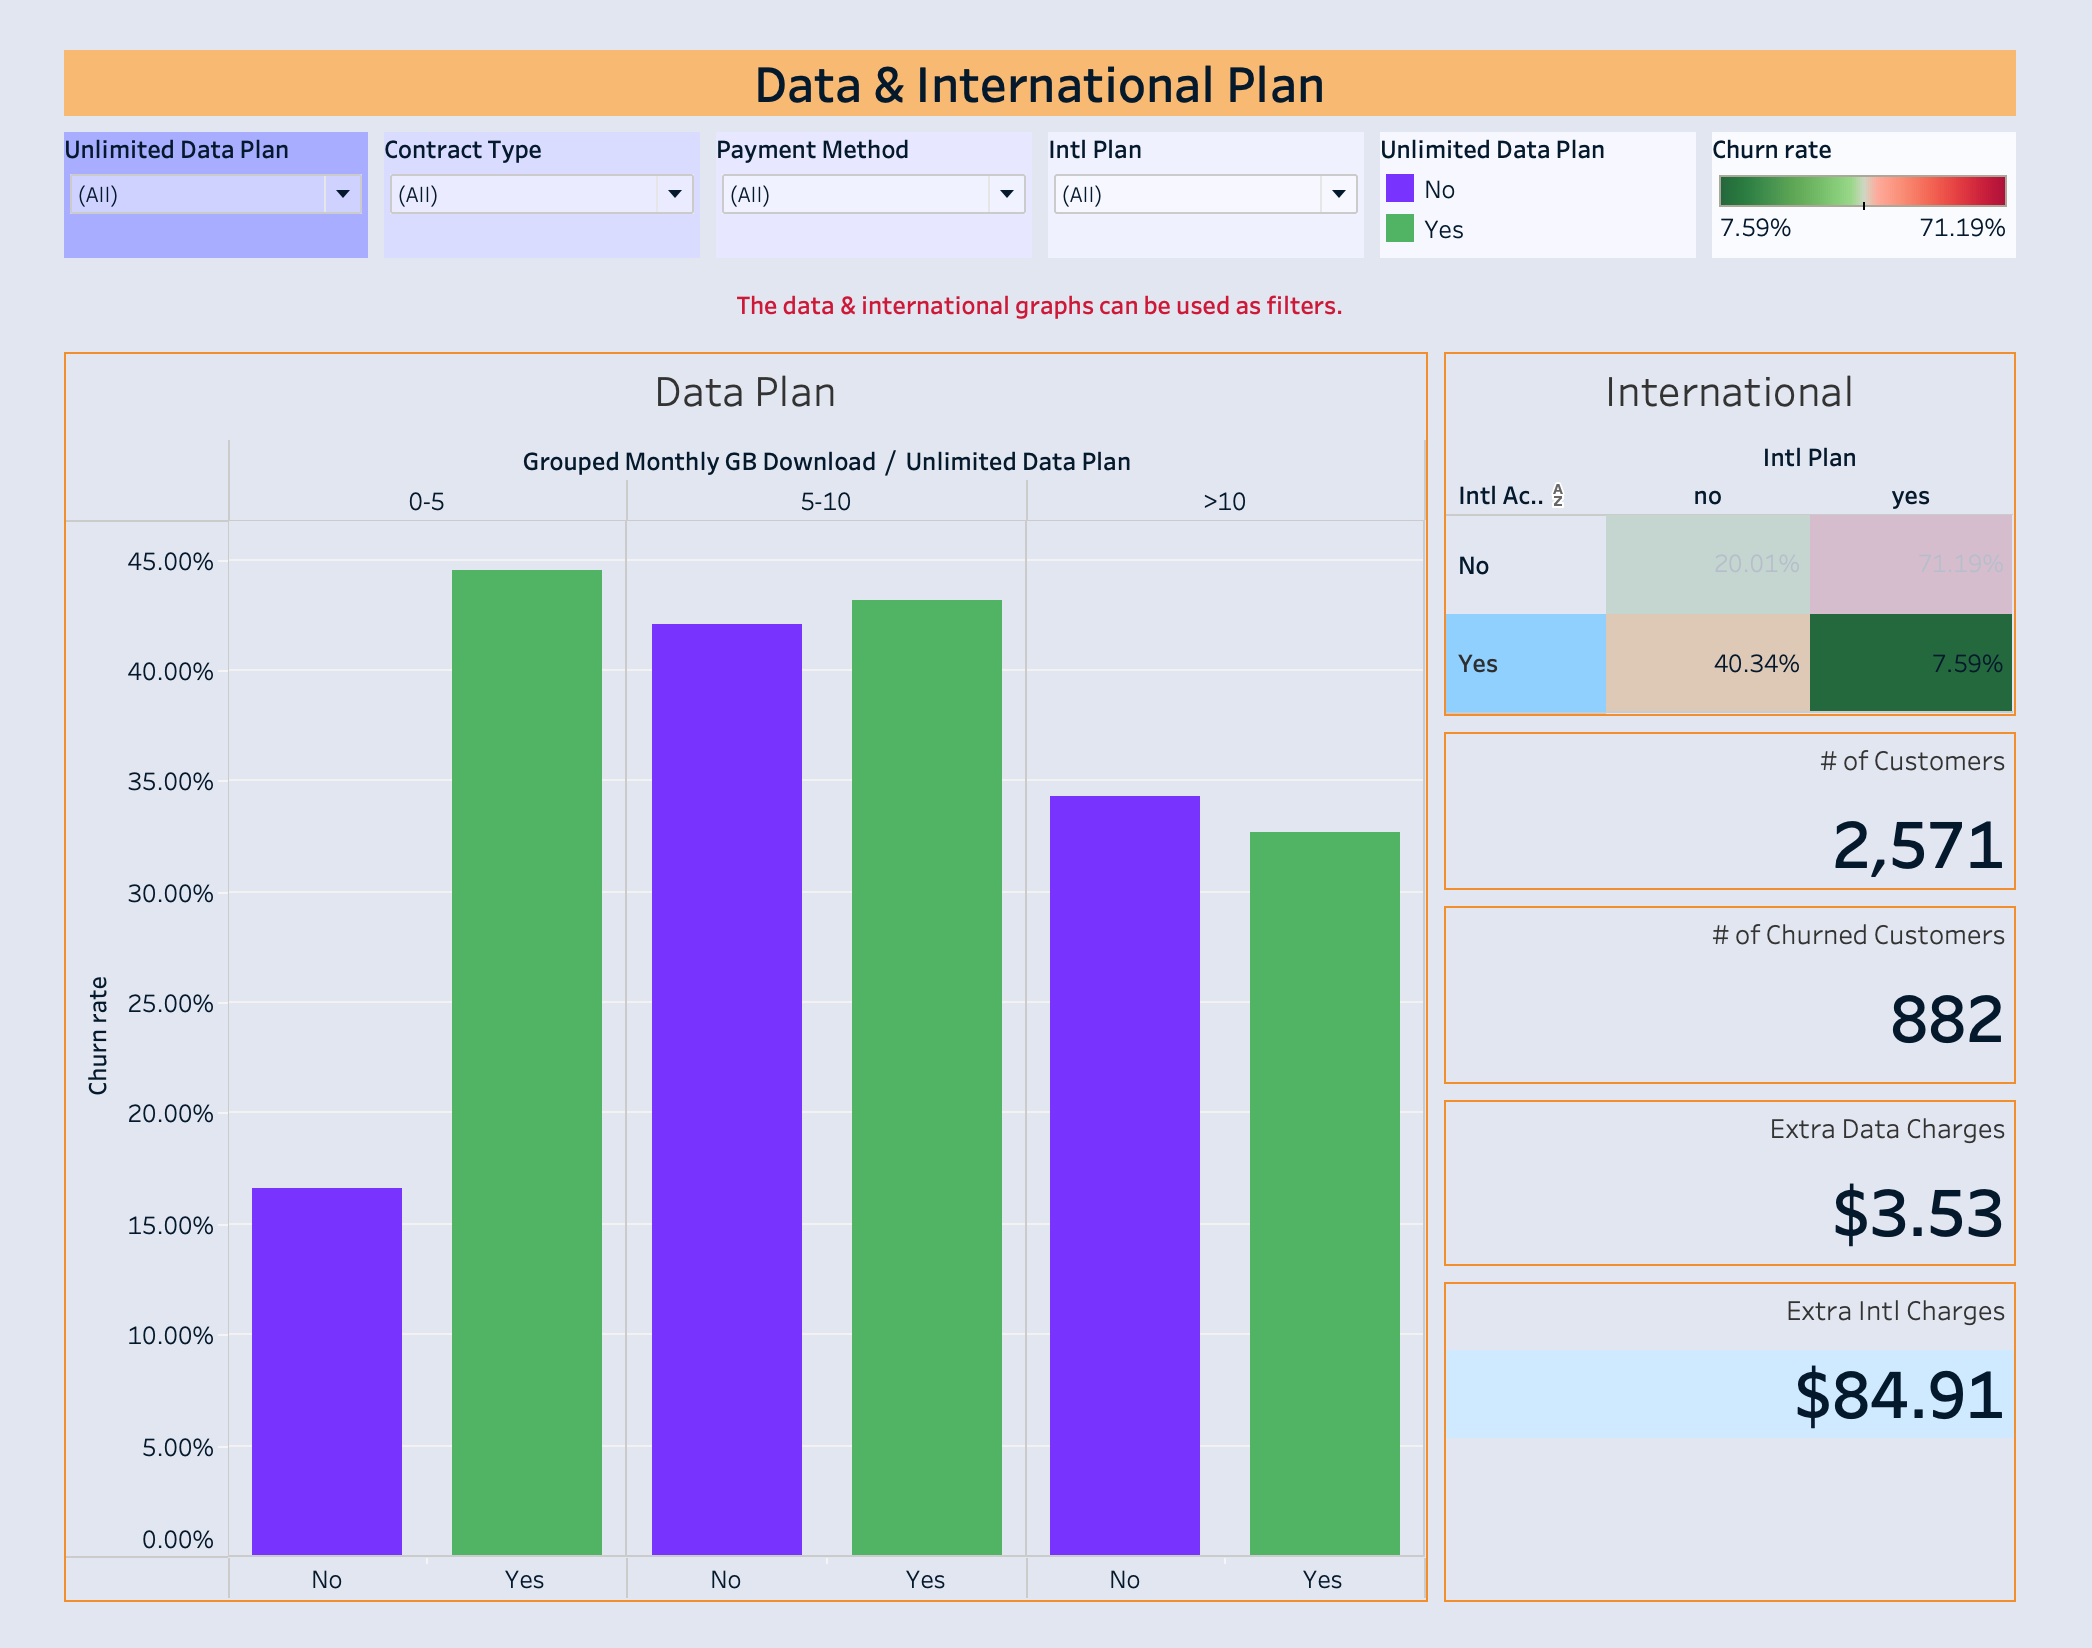

Layout of this report page (visuals, bound fields, positions):
{"tool":"tableau","page":{"name":"Data & International Plan ","canvas":[1000,800],"ordinal":1},"visuals":[{"type":"title","box":[8,8,984,41]},{"type":"filter","title":"Data Plan","param":"[federated.1559pdh1893exj185r2jq1n05w4m].[none:Unlimited Data Plan:nk]","box":[8,49,160,71.1]},{"type":"filter","title":"Data Plan","param":"[federated.1559pdh1893exj185r2jq1n05w4m].[none:Contract Type:nk]","box":[168,49,166,71.1]},{"type":"filter","title":"Data Plan","param":"[federated.1559pdh1893exj185r2jq1n05w4m].[none:Payment Method:nk]","box":[334,49,166,71.1]},{"type":"filter","title":"Data Plan","param":"[federated.1559pdh1893exj185r2jq1n05w4m].[none:Intl Plan:nk]","box":[500,49,166,71.1]},{"type":"legend","title":"Data Plan","param":"[federated.1559pdh1893exj185r2jq1n05w4m].[none:Unlimited Data Plan:nk]","box":[666,49,166,71.1]},{"type":"legend","title":"International","param":"[federated.1559pdh1893exj185r2jq1n05w4m].[usr:Calculation_161848126833676291:qk]","box":[832,49,160,71.1]},{"type":"text","box":[8,120.1,984,38.9]},{"type":"worksheet","title":"Data Plan","mark":"Automatic","rows":["Calculation_161848126833676291"],"cols":["Calculation_681450935635226625","Unlimited Data Plan"],"box":[8,159,690,633]},{"type":"worksheet","title":"International","mark":"Square","rows":["Intl Active"],"cols":["Intl Plan"],"box":[698,159,294,190.2]},{"type":"worksheet","title":"# of Customers","mark":"Automatic","box":[698,349.2,294,86.8]},{"type":"worksheet","title":"# of Churned Customers","mark":"Automatic","box":[698,436,294,97]},{"type":"worksheet","title":"Extra Data Charges","mark":"Automatic","box":[698,533,294,91]},{"type":"worksheet","title":"Extra Intl Charges","mark":"Automatic","box":[698,624,294,168]}]}

Visuals, with their boxes in screenshot pixels (x1, y1, x2, y2), scaled from the page's 1000x800 canvas onto the 2092x1648 screenshot:
title: 17:16:2075:101
"Data Plan" filter: 17:101:351:247
"Data Plan" filter: 351:101:699:247
"Data Plan" filter: 699:101:1046:247
"Data Plan" filter: 1046:101:1393:247
"Data Plan" legend: 1393:101:1741:247
"International" legend: 1741:101:2075:247
text: 17:247:2075:328
"Data Plan" worksheet: 17:328:1460:1632
"International" worksheet (Square marks): 1460:328:2075:719
"# of Customers" worksheet: 1460:719:2075:898
"# of Churned Customers" worksheet: 1460:898:2075:1098
"Extra Data Charges" worksheet: 1460:1098:2075:1285
"Extra Intl Charges" worksheet: 1460:1285:2075:1632
